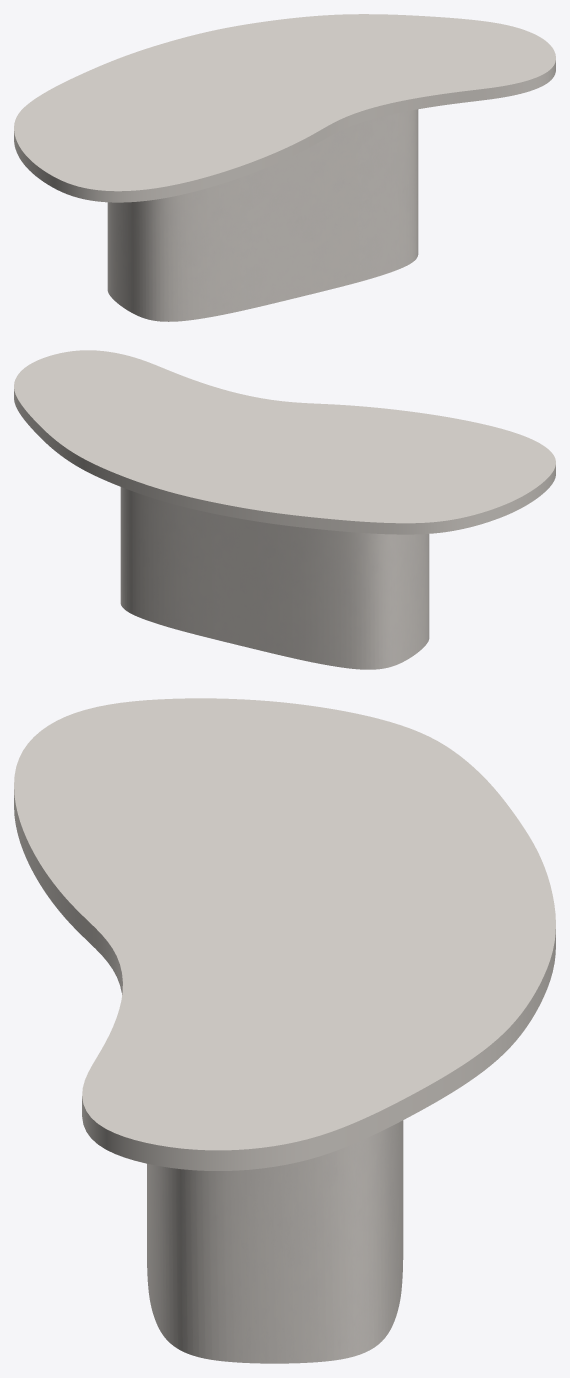
Rendered from pearlwhite_leaf1_standard_fixed.glb.
The picture shows the model from 3 angles, top to bottom: view 1: azimuth 30°, elevation 25°; view 2: azimuth 150°, elevation 25°; view 3: azimuth 270°, elevation 25°; orthographic projection. The views are drawn at different scales.
Parts seen in each view (by area): view 1: standard_leaf1, fixed; view 2: standard_leaf1, fixed; view 3: standard_leaf1, fixed.
Boxes of the visible parts, x1,y1,x2,y2 form: standard_leaf1: (14,14,555,202); fixed: (107,109,418,321); standard_leaf1: (14,350,555,534); fixed: (120,487,429,669); standard_leaf1: (14,698,555,1170); fixed: (147,1120,403,1363).
Bounding box in the file's own units: 7.5 × 2.5 × 3.8.
Materials: 1 (1 with a texture image).
